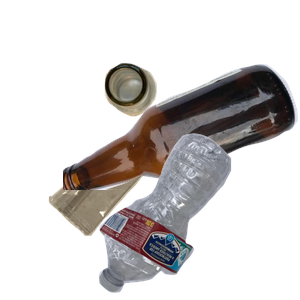glass: (63, 62, 300, 242)
metal: (102, 60, 252, 169)
plastic: (96, 131, 300, 300)
trash: (46, 144, 188, 300)
